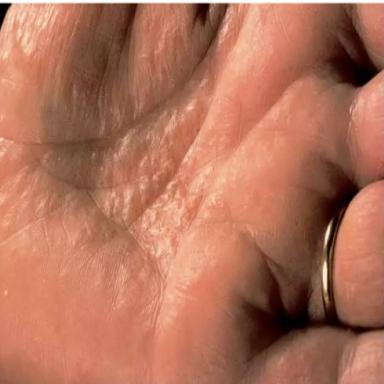eczema: (7, 58, 215, 306)
